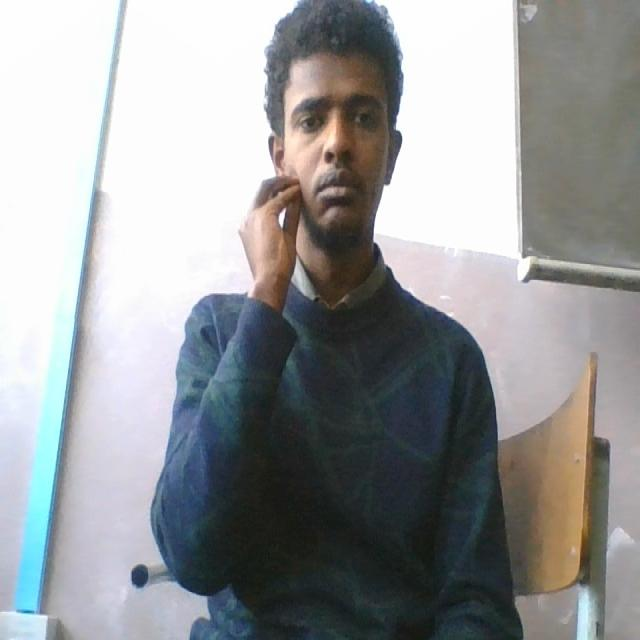bet: (239, 160, 407, 284)
